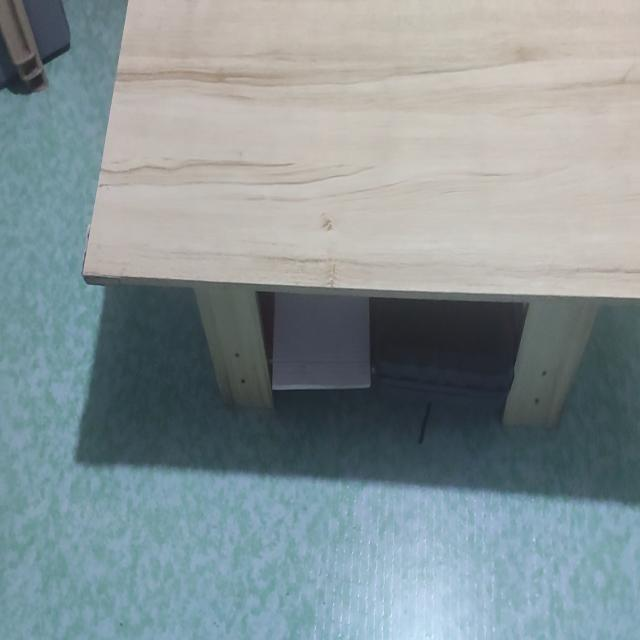table: (81, 0, 640, 451)
